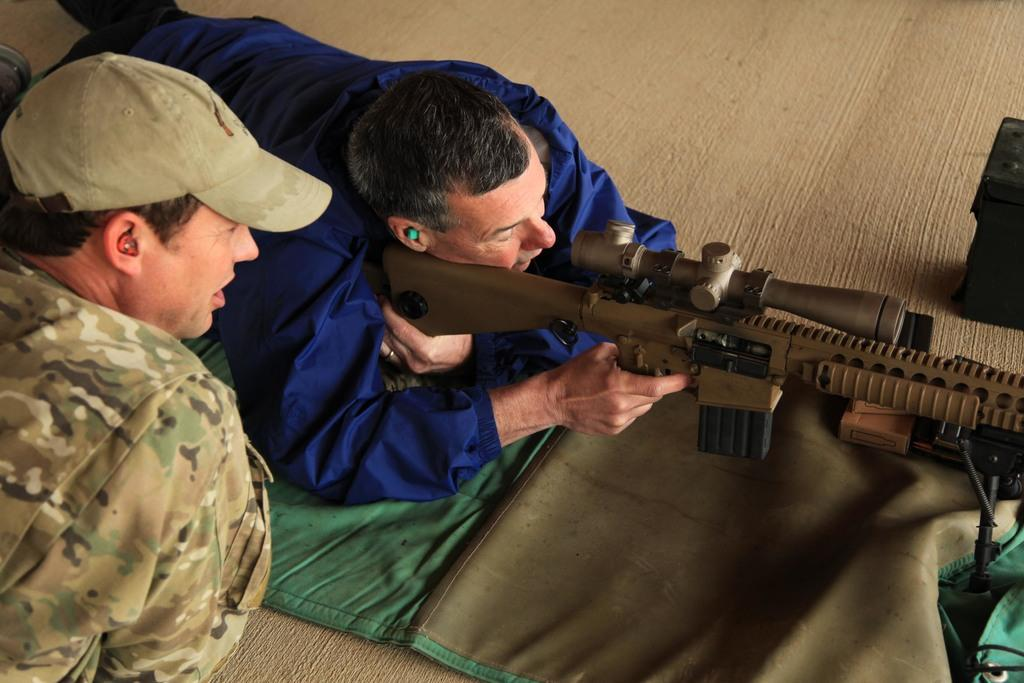Shotgun: (291, 161, 1007, 526)
